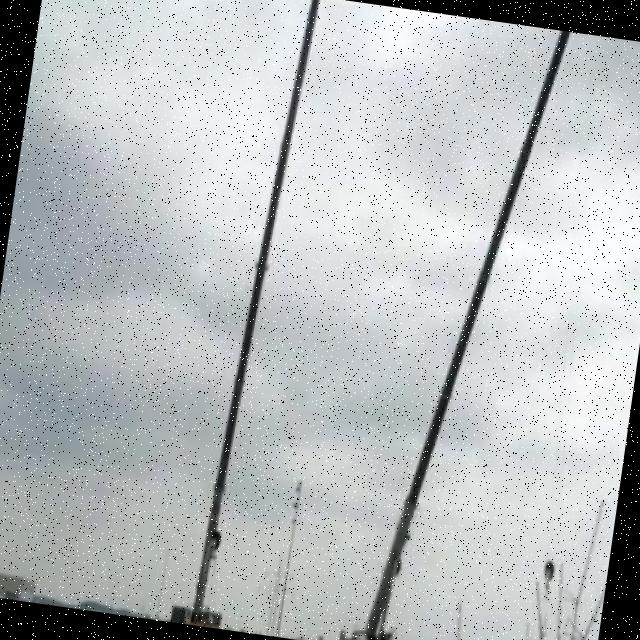Mobile Crane: (285, 4, 573, 640), (140, 0, 354, 635)
